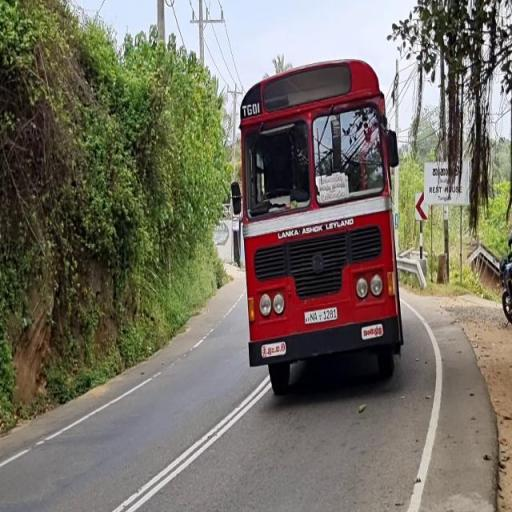double_white_line: (111, 374, 271, 511)
